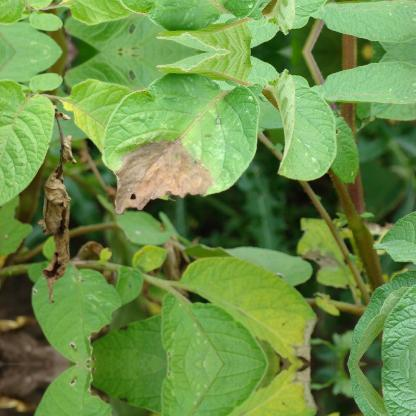Early-Blight: (20, 60, 406, 358), (100, 65, 274, 211), (163, 248, 319, 360), (29, 96, 96, 296), (163, 368, 319, 416), (100, 0, 274, 39), (290, 207, 372, 289)
